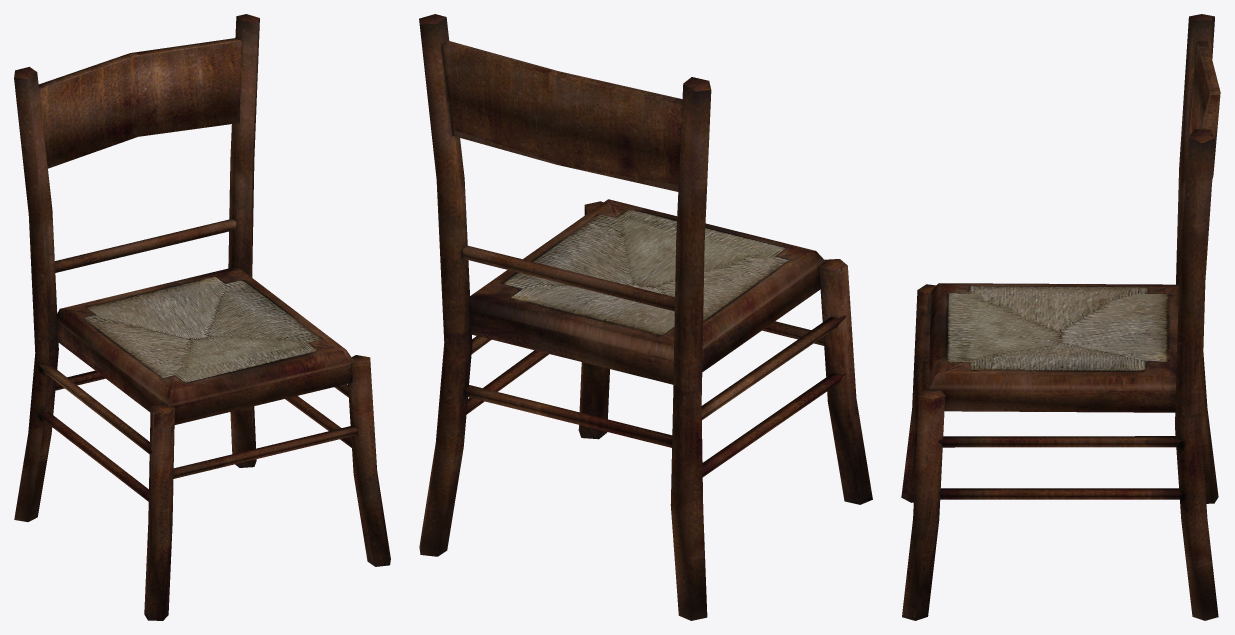
Rendered from chair_wicker_seat.obj.
3 views of the same model, side by side, from view 1: azimuth 30°, elevation 25°; view 2: azimuth 150°, elevation 25°; view 3: azimuth 270°, elevation 25° (orthographic). The views are drawn at different scales.
Visible parts, largest first — view 1: Model001_4_chair_1_0_0; view 2: Model001_4_chair_1_0_0; view 3: Model001_4_chair_1_0_0.
Part boxes in pixels (x1=…): Model001_4_chair_1_0_0: x1=14, y1=14, x2=390, y2=620; Model001_4_chair_1_0_0: x1=419, y1=14, x2=872, y2=620; Model001_4_chair_1_0_0: x1=901, y1=14, x2=1220, y2=620.
Size of the model in its own units: 0.5002 by 0.8652 by 0.519.
